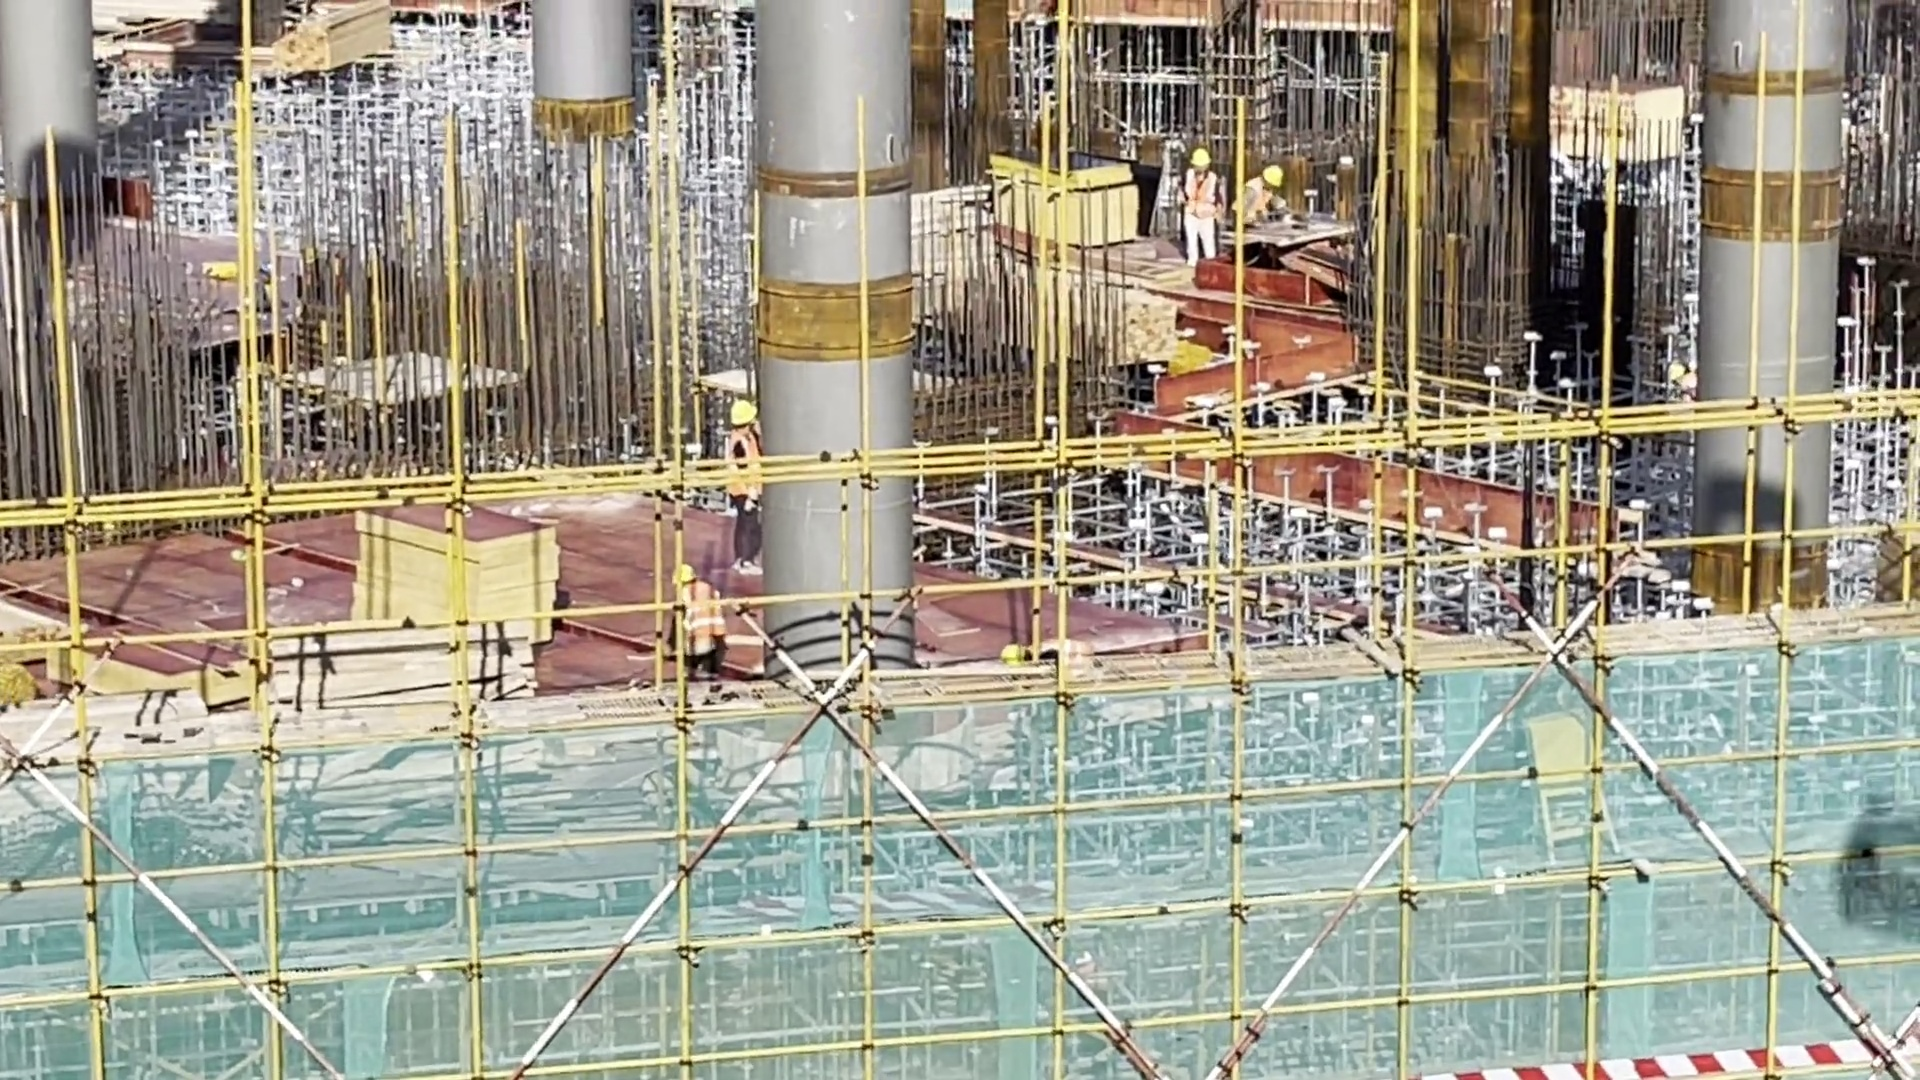board: (347, 466, 562, 669), (983, 124, 1141, 251)
ebox: (1531, 702, 1625, 866)
helmet: (723, 393, 763, 437), (984, 638, 1036, 669), (668, 559, 705, 595), (1259, 162, 1295, 188), (1188, 144, 1212, 177)
person: (719, 393, 779, 580), (662, 561, 743, 693), (1180, 134, 1222, 272), (1243, 154, 1290, 261)
vest: (680, 582, 733, 666), (722, 435, 769, 510), (1239, 178, 1278, 229), (1186, 169, 1220, 222)
wood: (241, 624, 555, 748), (1, 589, 81, 718)
